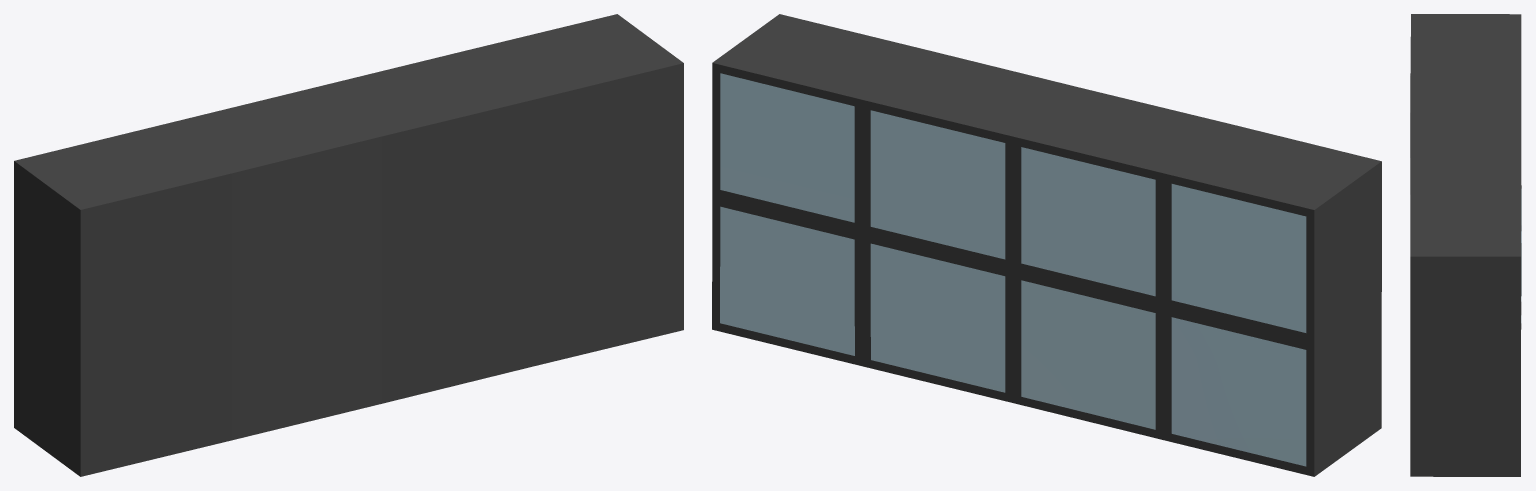
The model's file is tudo.fbx.
3 renders of one model, left to right at view 1: azimuth 30°, elevation 25°; view 2: azimuth 150°, elevation 25°; view 3: azimuth 270°, elevation 25°, orthographic. The views are drawn at different scales.
Visible parts, largest first — view 1: tudo; view 2: tudo; view 3: tudo.
Boxes of the visible parts, <box> form: tudo: <box>14,14,683,476</box>; tudo: <box>712,14,1381,476</box>; tudo: <box>1410,14,1521,476</box>.
Bounding box in the file's own units: 431 × 182 × 83.37.
1 material, 1 textured.
